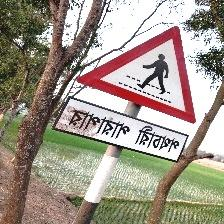Pedestrian-crossing: (52, 25, 198, 165)
